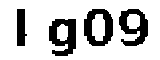0: (80, 4, 116, 48)
9: (117, 4, 150, 51)
g: (43, 15, 77, 60)
l: (10, 5, 32, 52)
